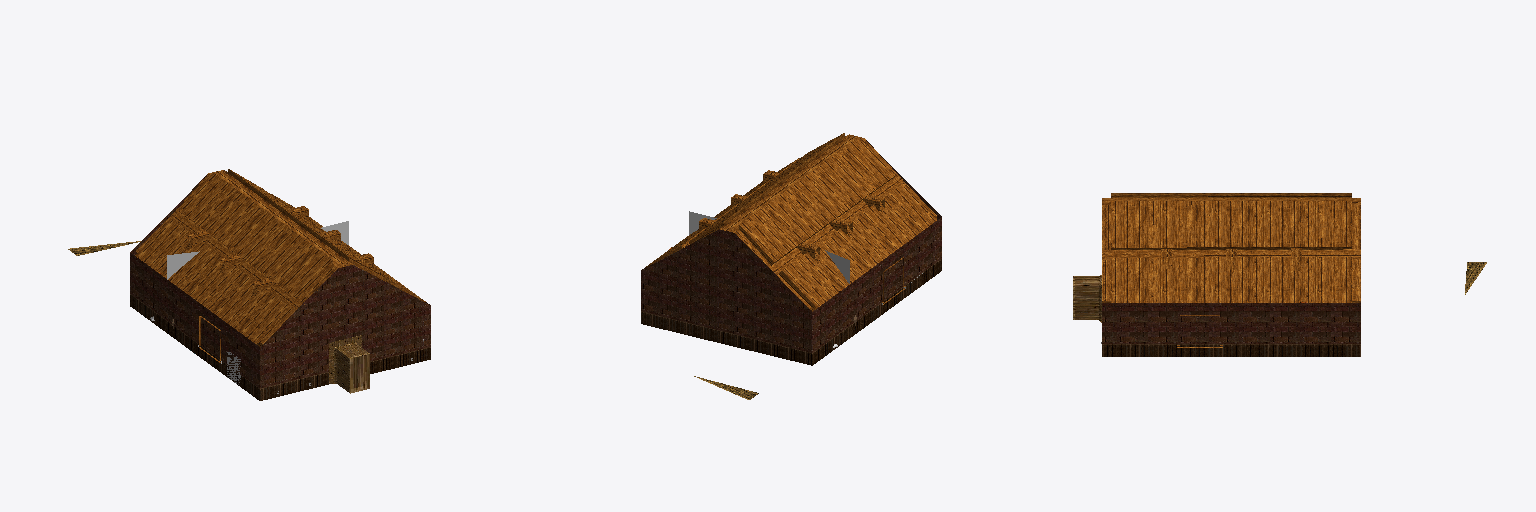
The picture shows the model from 3 angles: view 1: azimuth 30°, elevation 25°; view 2: azimuth 150°, elevation 25°; view 3: azimuth 270°, elevation 25°; orthographic projection.
Visible parts, largest first — view 1: #Room0#_RoofAndBeams#Wood_wood2., #Room0#_Walls_BrickWall., #Room0#_Baseboard#Wood_BaseBoard.001., #Room0#_doorFrame#Wood_BaseBoard., #Room0#_CollisoonWall#NoMesh_Cliff.; view 2: #Room0#_RoofAndBeams#Wood_wood2., #Room0#_Walls_BrickWall., #Room0#_Baseboard#Wood_BaseBoard.001., #Room0#_CollisoonWall#NoMesh_Cliff.; view 3: #Room0#_RoofAndBeams#Wood_wood2., #Room0#_Walls_BrickWall., #Room0#_Baseboard#Wood_BaseBoard.001., #Room0#_doorFrame#Wood_BaseBoard..
Boxes of the visible parts, x1,y1,x2,y2 form: #Room0#_RoofAndBeams#Wood_wood2.: [135, 169, 425, 346]; #Room0#_Walls_BrickWall.: [130, 170, 430, 387]; #Room0#_Baseboard#Wood_BaseBoard.001.: [130, 294, 430, 400]; #Room0#_doorFrame#Wood_BaseBoard.: [329, 335, 369, 393]; #Room0#_CollisoonWall#NoMesh_Cliff.: [167, 221, 348, 279]; #Room0#_RoofAndBeams#Wood_wood2.: [646, 133, 936, 311]; #Room0#_Walls_BrickWall.: [641, 140, 941, 352]; #Room0#_Baseboard#Wood_BaseBoard.001.: [641, 259, 941, 365]; #Room0#_CollisoonWall#NoMesh_Cliff.: [689, 211, 849, 283]; #Room0#_RoofAndBeams#Wood_wood2.: [1102, 193, 1360, 302]; #Room0#_Walls_BrickWall.: [1102, 303, 1360, 343]; #Room0#_Baseboard#Wood_BaseBoard.001.: [1102, 344, 1360, 356]; #Room0#_doorFrame#Wood_BaseBoard.: [1073, 275, 1101, 322].
Size of the model in its own units: 524 by 340 by 1077.
Materials: 39 (32 with a texture image).